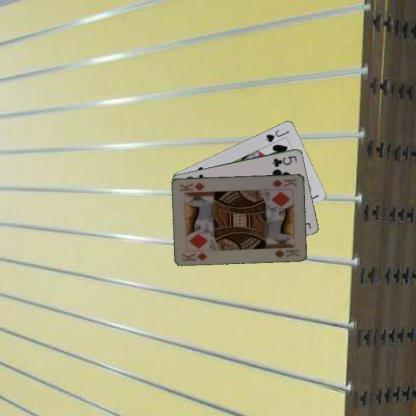5c: (270, 153, 298, 168)
Js: (263, 127, 290, 143)
Kd: (180, 249, 209, 263), (269, 176, 298, 188)
